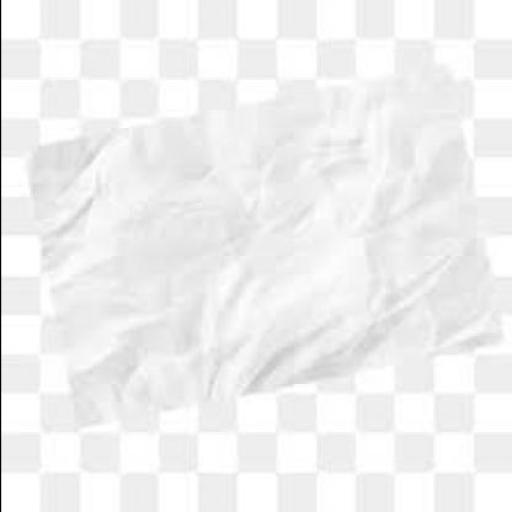paper: (32, 61, 510, 426)
